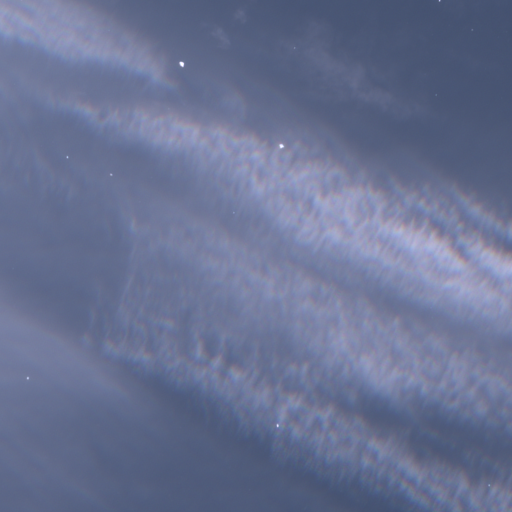Iceberg: (179, 61, 184, 67), (279, 144, 283, 148), (26, 376, 29, 379), (66, 156, 68, 158), (110, 173, 112, 175), (276, 424, 278, 426), (438, 0, 440, 1), (471, 29, 472, 30), (294, 47, 295, 48), (435, 94, 436, 95), (233, 212, 234, 213), (488, 484, 489, 485)
